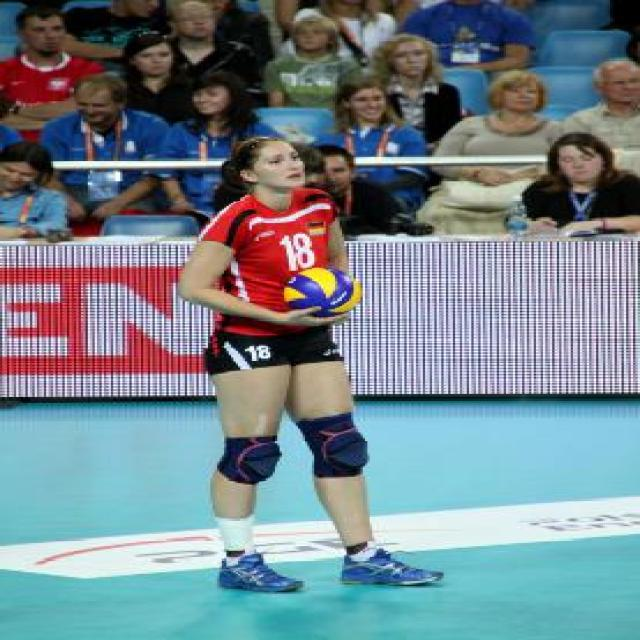Volleyball: (281, 266, 362, 316)
